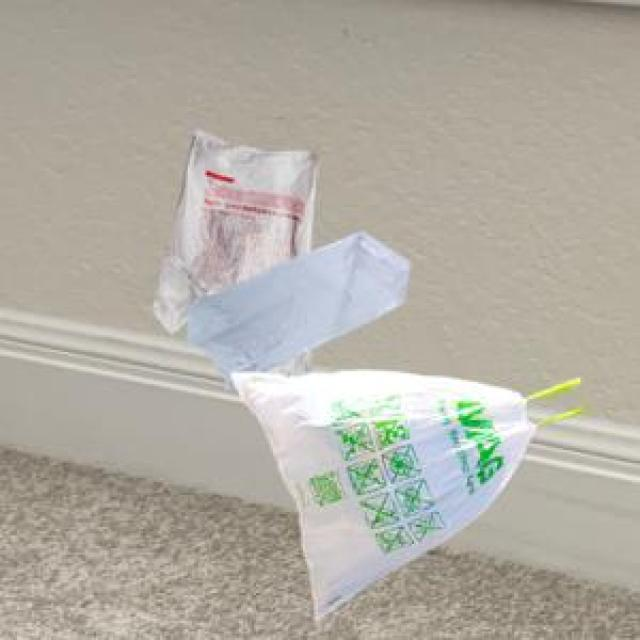plastic_bag: (236, 367, 530, 618)
